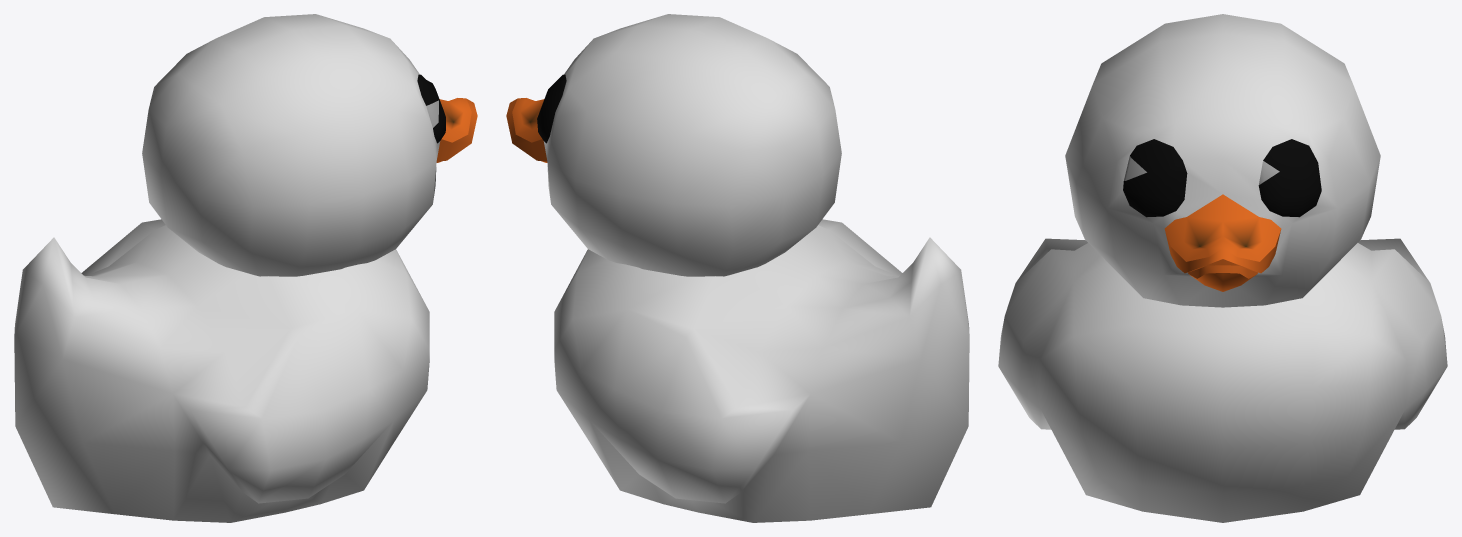
The model's file is Duck.glb.
3 views of the same model, side by side, from view 1: azimuth 30°, elevation 25°; view 2: azimuth 150°, elevation 25°; view 3: azimuth 270°, elevation 25° (orthographic). The views are drawn at different scales.
Parts seen in each view (by area): view 1: MESH_Duck; view 2: MESH_Duck; view 3: MESH_Duck.
Boxes of the visible parts, x1,y1,x2,y2 form: MESH_Duck: (14,14,477,522); MESH_Duck: (506,14,969,522); MESH_Duck: (998,14,1447,522).
Size of the model in its own units: 1.9 by 1.66 by 1.47.
